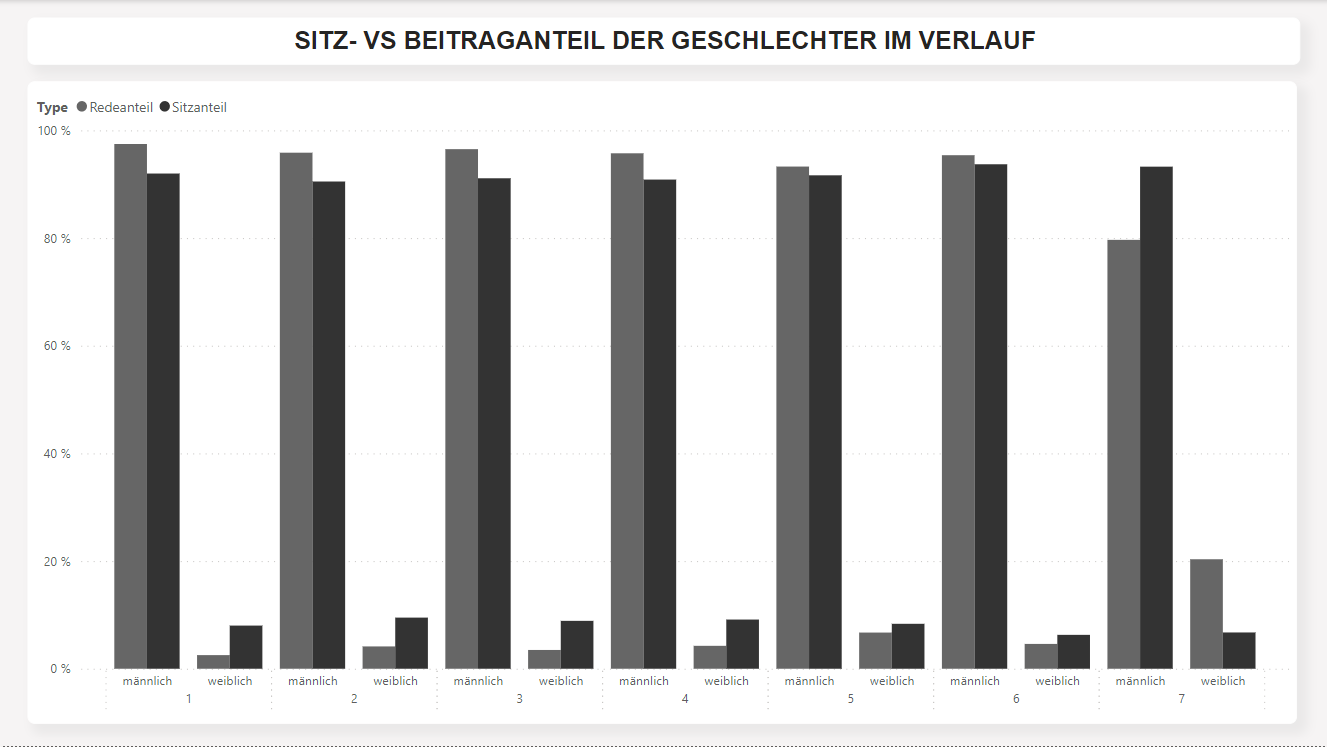

The dashboard page shown, as its layout file describes it:
{"tool":"powerbi","page":{"name":"Sitz-Beitraganteil - ♀♂","canvas":[1280,720],"ordinal":5},"visuals":[{"type":"textbox","box":[27.1,16.8,1228.3,45.2],"z":0},{"type":"clusteredColumnChart","fields":{"Category":["sitz_redeanteil.WP","sitz_redeanteil.Geschlecht"],"Y":["Sum(sitz_redeanteil.Wert)"],"Series":["sitz_redeanteil.Type"]},"box":[27.1,78.8,1224.5,620],"z":1000}]}

Visuals, with their boxes in screenshot pixels (x1, y1, x2, y2), scaled from the page's 1280x720 canvas onto the 1327x747 screenshot:
textbox: {"x1": 28, "y1": 17, "x2": 1301, "y2": 64}
clusteredColumnChart - sitz_redeanteil.WP x sitz_redeanteil.Geschlecht: {"x1": 28, "y1": 82, "x2": 1298, "y2": 725}
